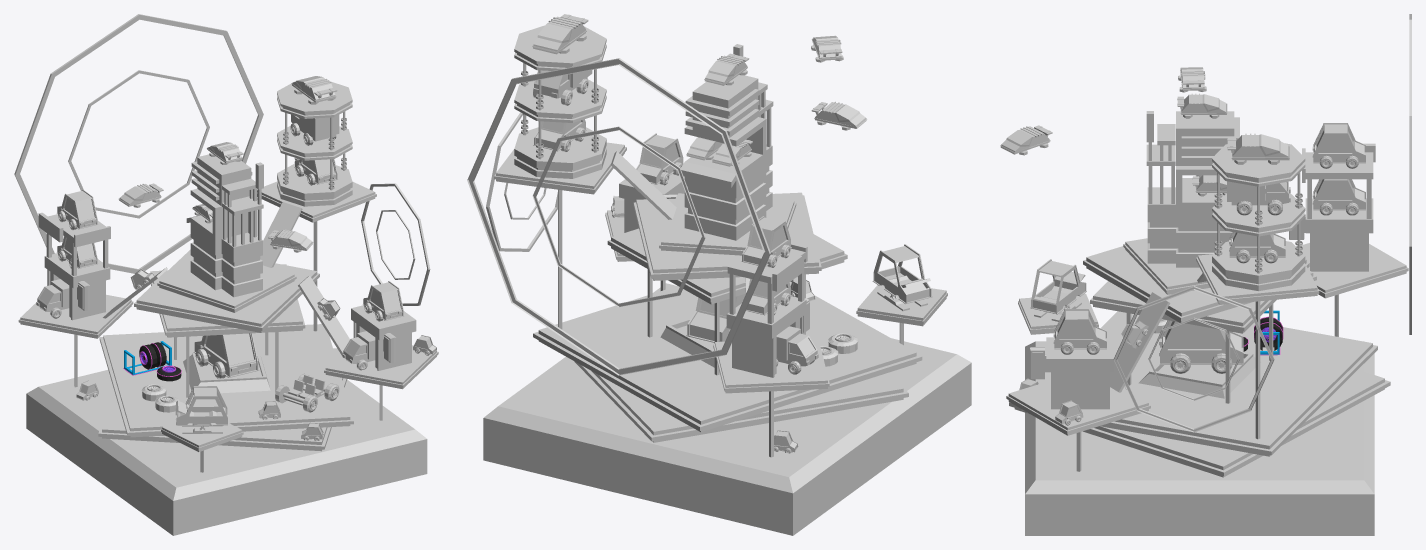
Rendered from car_museum.fbx.
The picture shows the model from 3 angles, left to right: view 1: azimuth 30°, elevation 25°; view 2: azimuth 150°, elevation 25°; view 3: azimuth 270°, elevation 25°; orthographic projection. The views are drawn at different scales.
Parts seen in each view (by area): view 1: empty_museum, _9, _8, _7, decor_1, _6, _5, _4, _3, decor_1.001, _2, decor_2 (+2 smaller); view 2: empty_museum, _9, _8, _7, decor_1, _6, _4, _5, decor_1.001, decor_2, _1, decor_3; view 3: empty_museum, _8, _9, _7, _6, _5, decor_1.001, _4, decor_3, decor_1, _2, decor_2 (+1 smaller).
Part boxes in pixels (x1,y1,x2,y2): empty_museum: [18, 181, 438, 535]; _9: [186, 142, 263, 297]; _8: [277, 76, 352, 206]; _7: [36, 189, 110, 320]; decor_1: [14, 14, 263, 273]; _6: [342, 281, 416, 370]; _5: [193, 333, 259, 378]; _4: [175, 386, 227, 433]; _3: [275, 373, 339, 412]; decor_1.001: [361, 183, 430, 305]; _2: [123, 341, 181, 381]; decor_2: [118, 183, 163, 207]; empty_museum: [483, 142, 971, 535]; _9: [680, 44, 773, 240]; _8: [514, 14, 606, 178]; _7: [726, 216, 818, 377]; decor_1: [467, 58, 770, 375]; _6: [619, 133, 687, 232]; _4: [872, 244, 932, 311]; _5: [686, 293, 745, 342]; decor_1.001: [486, 112, 557, 251]; decor_2: [811, 101, 867, 130]; _1: [820, 333, 858, 366]; decor_3: [811, 35, 843, 62]; empty_museum: [1006, 238, 1408, 535]; _8: [1212, 133, 1305, 291]; _9: [1146, 93, 1239, 267]; _7: [1289, 123, 1375, 271]; _6: [1030, 309, 1114, 409]; _5: [1159, 320, 1243, 373]; decor_1.001: [1113, 286, 1274, 432]; _4: [1030, 259, 1086, 321]; decor_3: [1000, 125, 1052, 155]; decor_1: [1409, 14, 1411, 334]; _2: [1243, 310, 1283, 355]; decor_2: [1178, 67, 1206, 92].
Bounding box in the file's own units: 794 × 900 × 759.
Materials: 2 (1 with a texture image).
